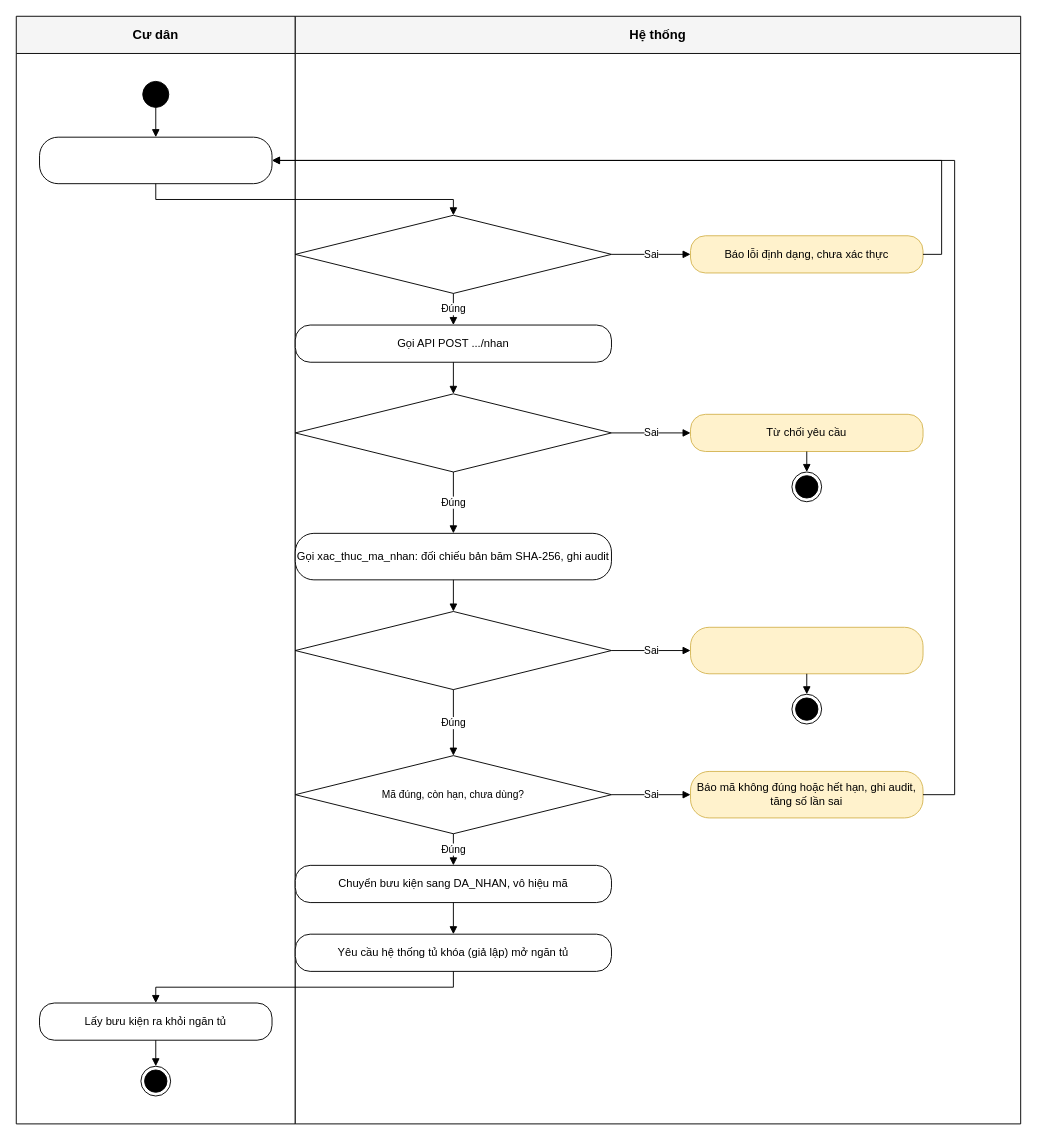
Some shapes in this 1037 by 1140 pixel diagram are drawn without their labels. Here are the shapes that lost their labels. From the top down, the centre of each, then its label:
At pixel 155 160: "Vào màn hình nhập mã, nhập mã 6 chữ số, bấm “Mở ngăn tủ”".
At pixel 452 253: "Mã gồm đúng 6 chữ số?".
At pixel 452 432: "Bưu kiện thuộc căn hộ cư dân đang ở?".
At pixel 452 650: "Chưa bị khóa (không quá 5 lần sai/15 phút)?".
At pixel 806 650: "Khóa nhập mã tạm thời, thử lại sau khoảng 15 phút".
